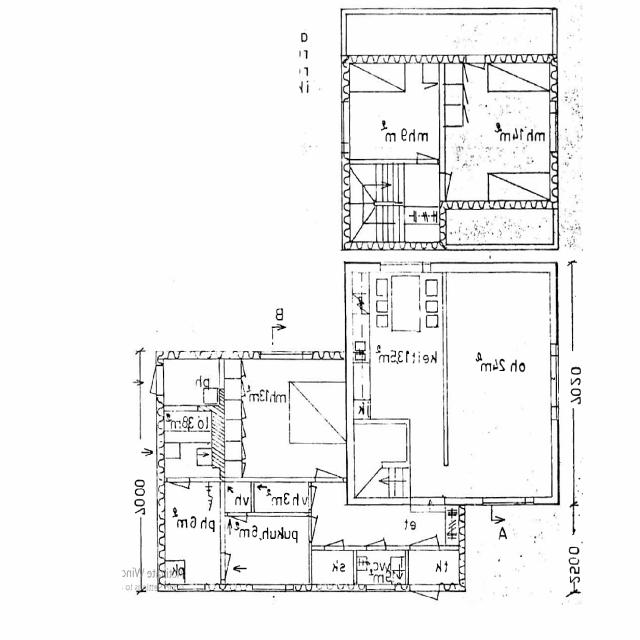door: (410, 584, 439, 627), (410, 510, 440, 550), (315, 443, 343, 482), (132, 365, 165, 395), (167, 477, 189, 509), (220, 553, 247, 579), (440, 173, 466, 200), (466, 54, 486, 88), (417, 133, 438, 164), (366, 520, 386, 550), (309, 518, 332, 542), (325, 521, 344, 550), (228, 512, 247, 540), (309, 486, 331, 510)
